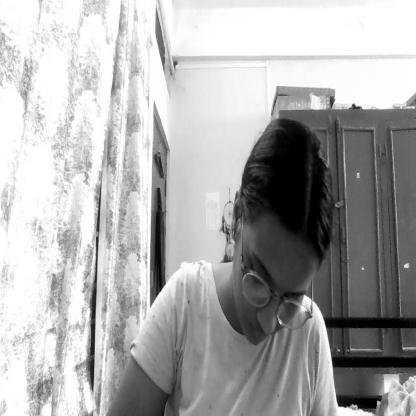Distracted: (234, 119, 334, 349)
